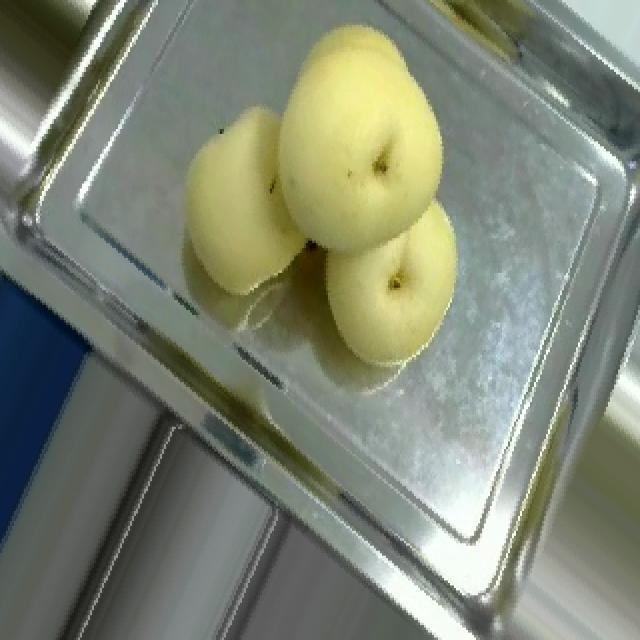Fruit: (182, 0, 466, 285), (154, 79, 350, 320), (292, 178, 478, 384)
